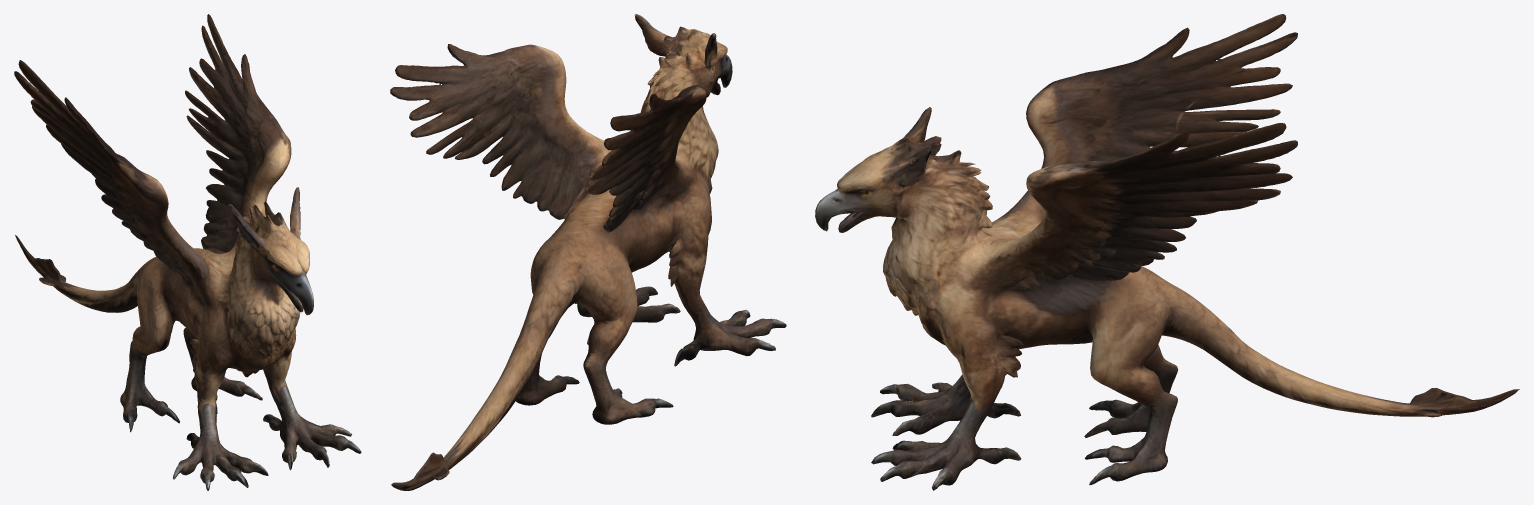
File: griffin__lightbrown-griffin.glb
The picture shows the model from 3 angles, left to right: view 1: azimuth 30°, elevation 25°; view 2: azimuth 150°, elevation 25°; view 3: azimuth 270°, elevation 25°; orthographic projection. The views are drawn at different scales.
Size of the model in its own units: 0.7463 by 1.2 by 2.02.
Materials: 1 (1 with a texture image).
